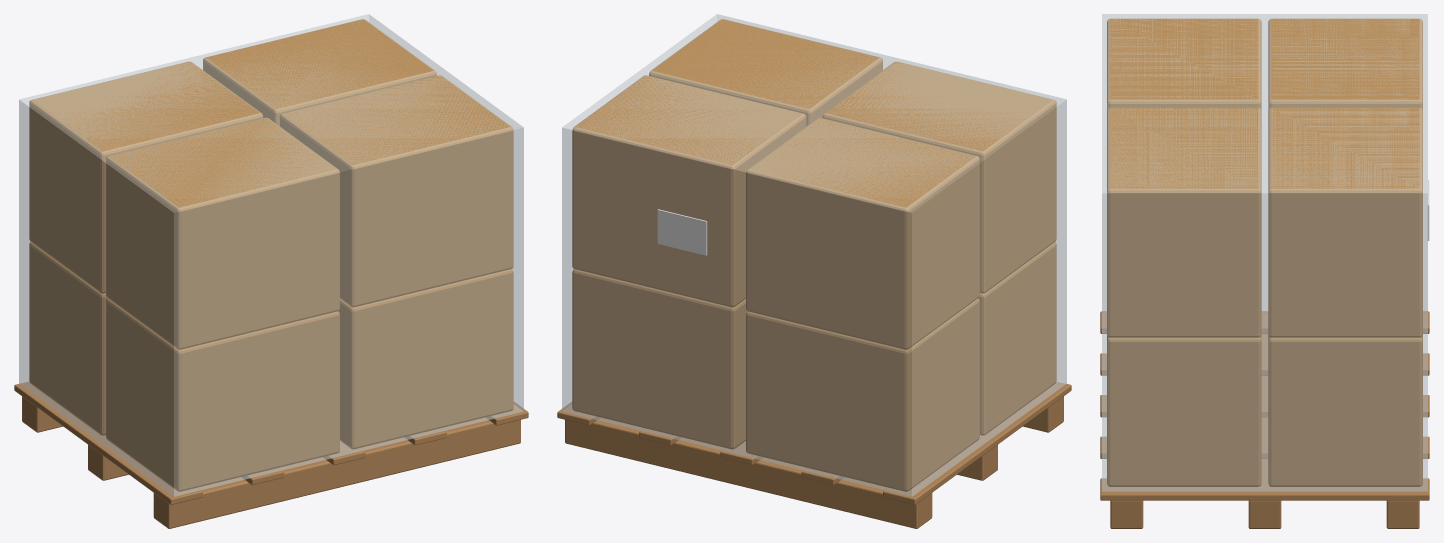
Rendered from pallet.glb.
3 renders of one model, left to right at view 1: azimuth 30°, elevation 25°; view 2: azimuth 150°, elevation 25°; view 3: azimuth 270°, elevation 25°, orthographic. The views are drawn at different scales.
Parts seen in each view (by area): view 1: pallet; view 2: pallet; view 3: pallet.
Part boxes in pixels (box(x1,y1,x2,y2)): pallet: box(14, 14, 528, 528); pallet: box(557, 14, 1071, 528); pallet: box(1100, 14, 1429, 528).
Size of the model in its own units: 1.32 by 1.12 by 1.
